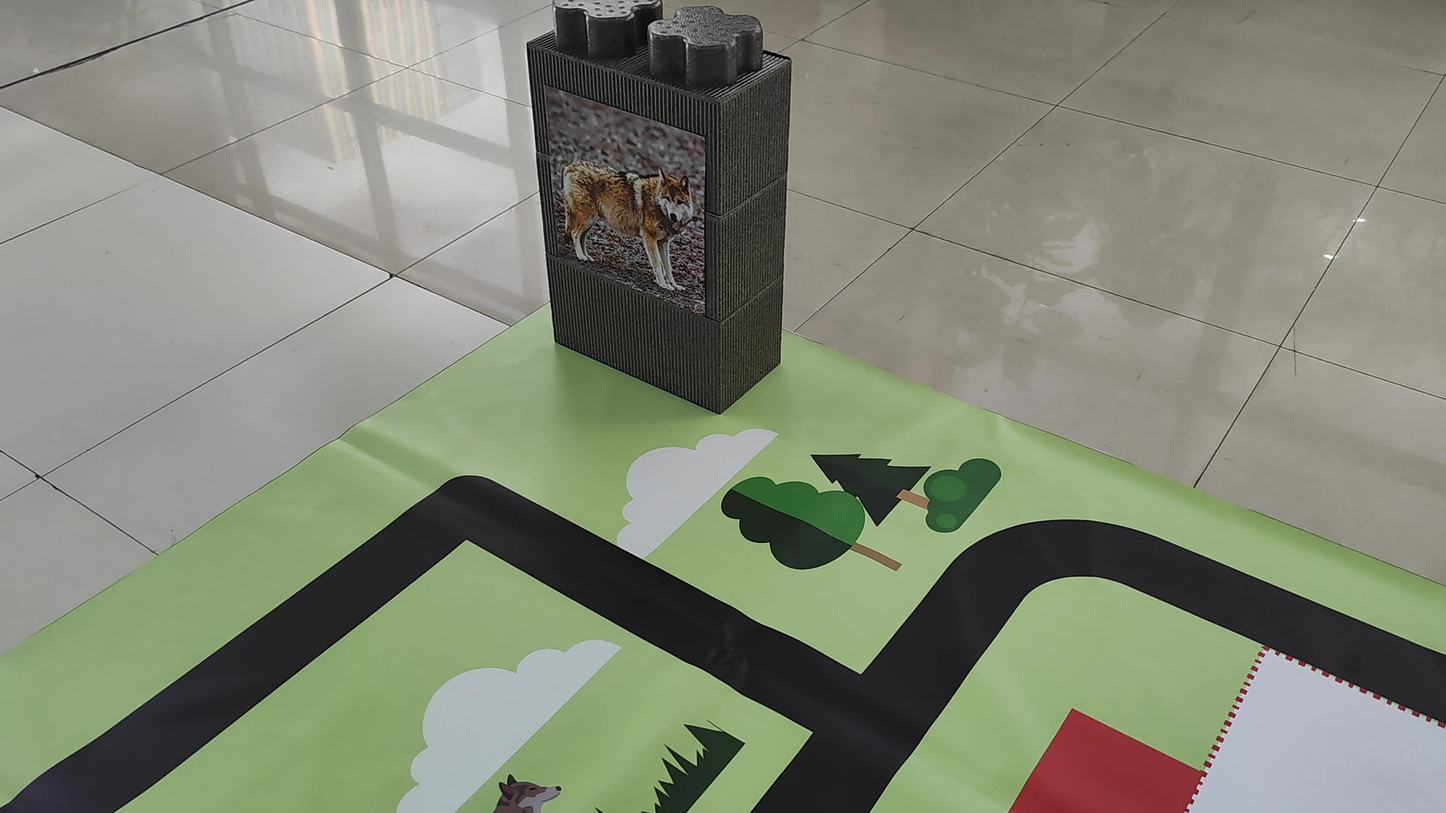wolf: (547, 132, 711, 302)
